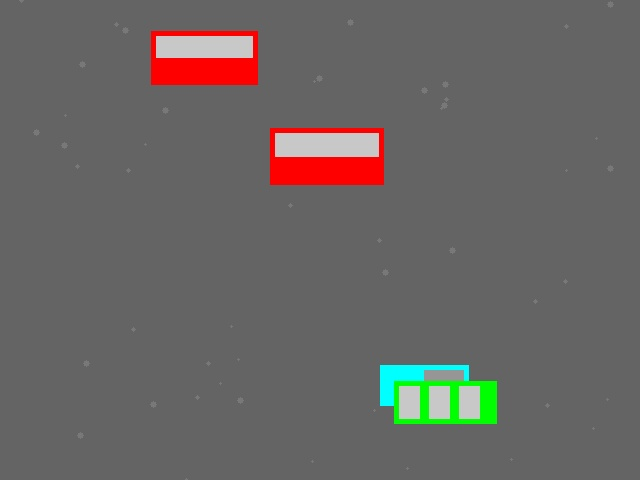bus: (394, 381, 496, 423)
car: (270, 128, 383, 184), (151, 31, 257, 84)
truck: (380, 365, 468, 405)
